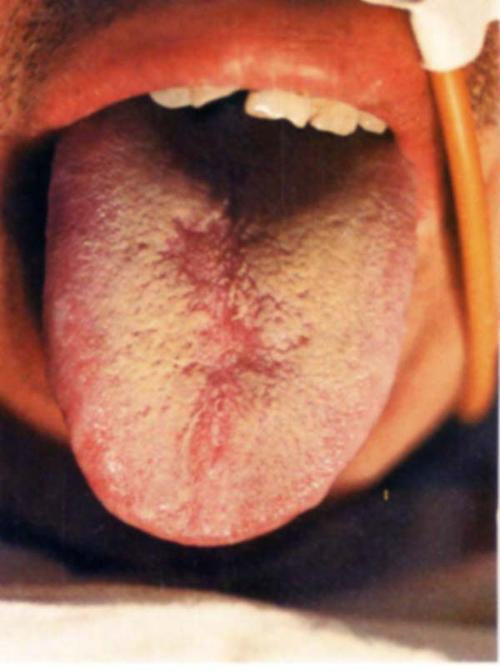hongshe: (42, 93, 417, 546)
huangtaishe: (42, 93, 417, 546)
liewenshe: (159, 120, 314, 474)
